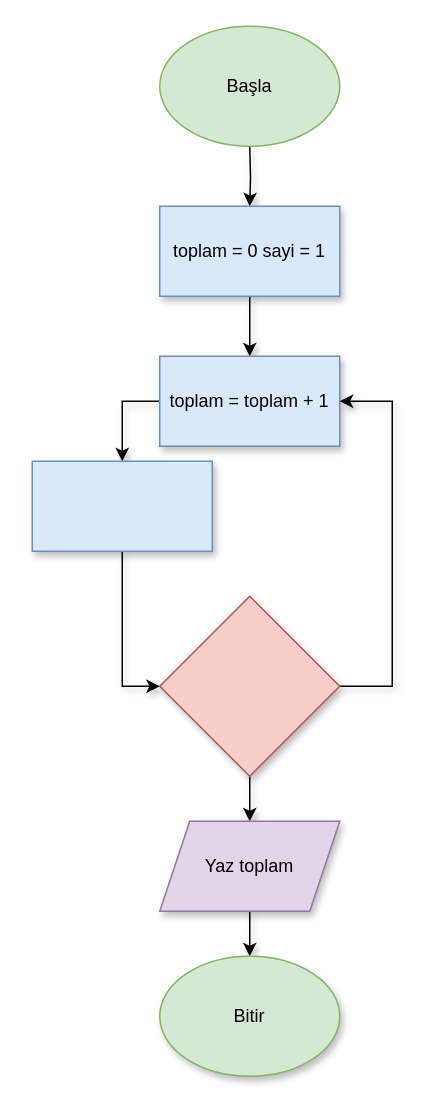
The diagram is 440 pixels wide and 1113 high, and some of its shapes have lost their labels. The centre of each missing label's shape, as x and y in pixels:
"sayi= sayi + 1" belongs at point (123, 508).
"toplam > 10" belongs at point (250, 688).
